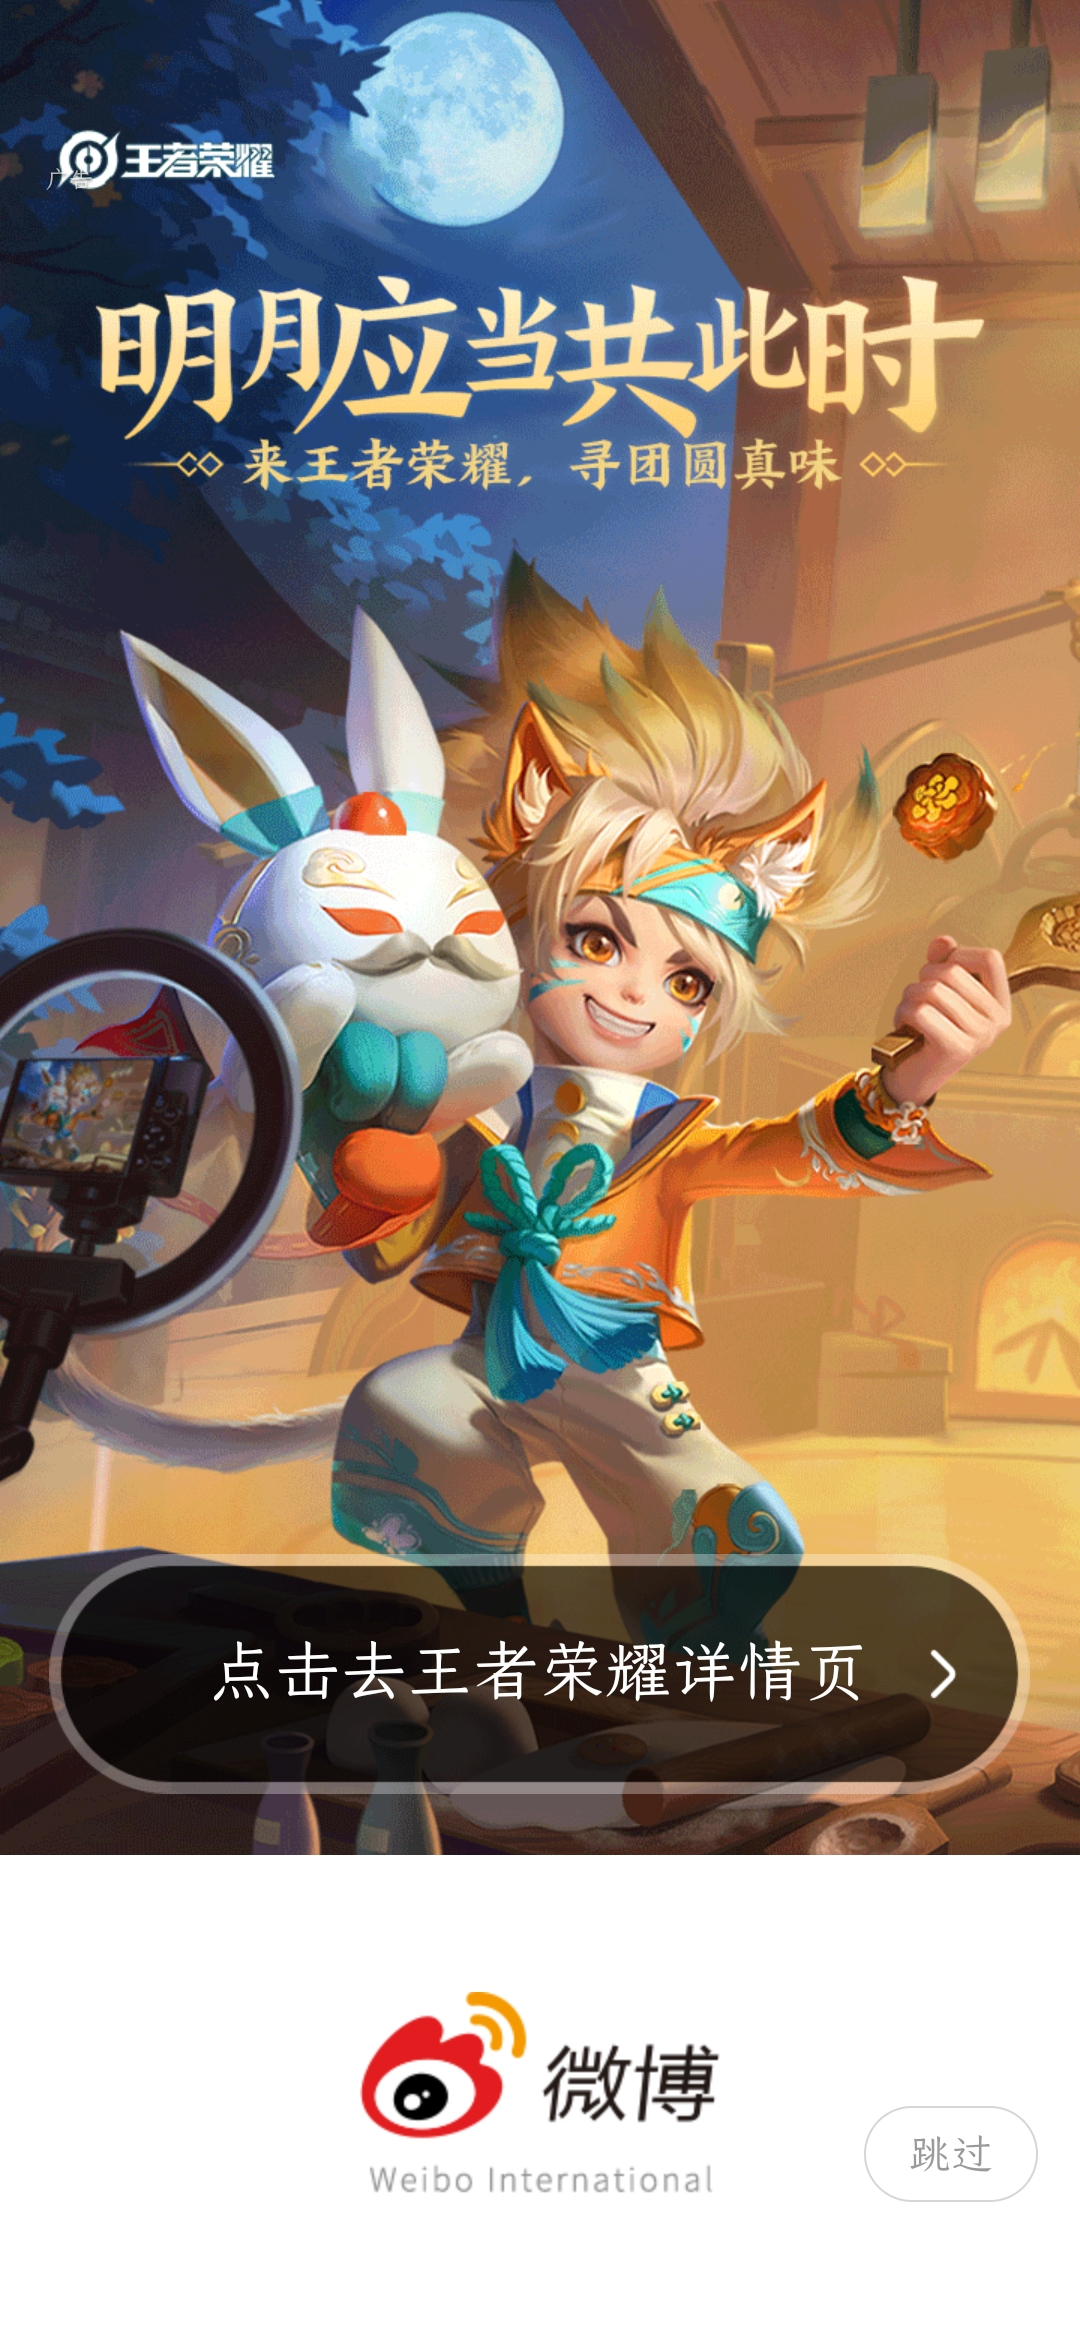skip: (894, 2121, 1005, 2183)
